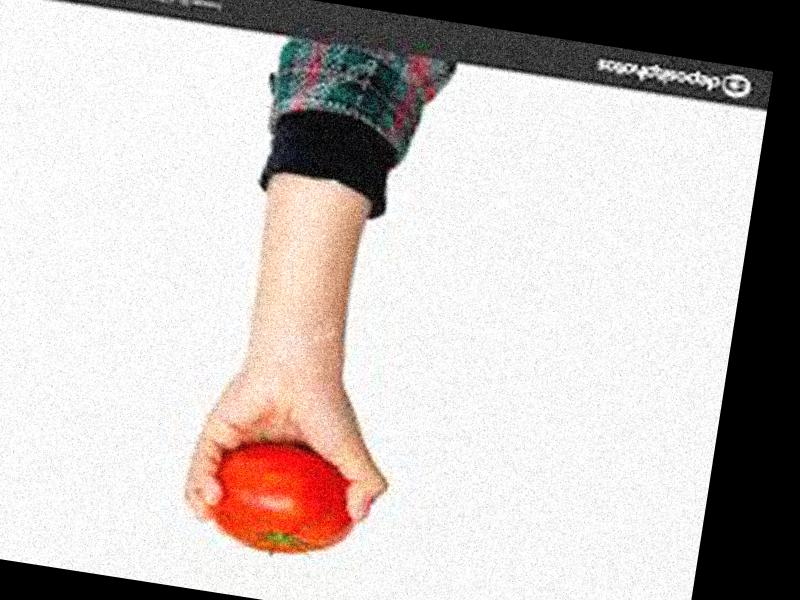Tomato: (200, 432, 364, 567)
